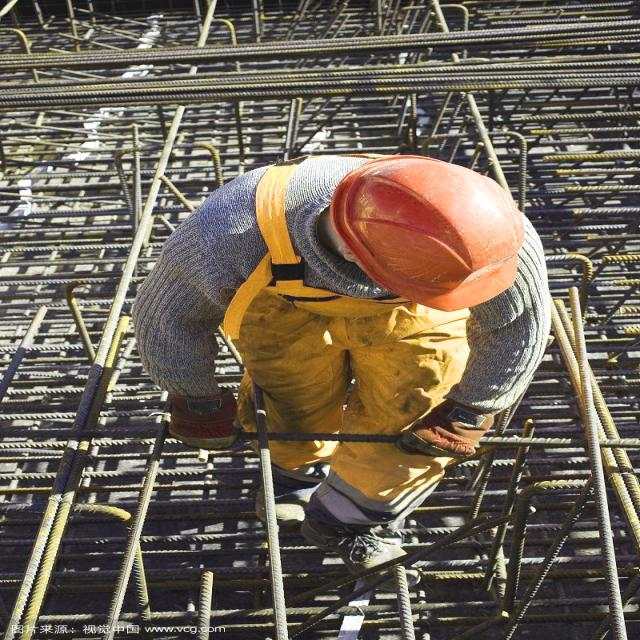hand_glove: (399, 398, 496, 466), (151, 395, 245, 453)
head_helmet: (332, 156, 522, 310)
person: (132, 155, 550, 567)
shoes: (301, 500, 425, 598)
